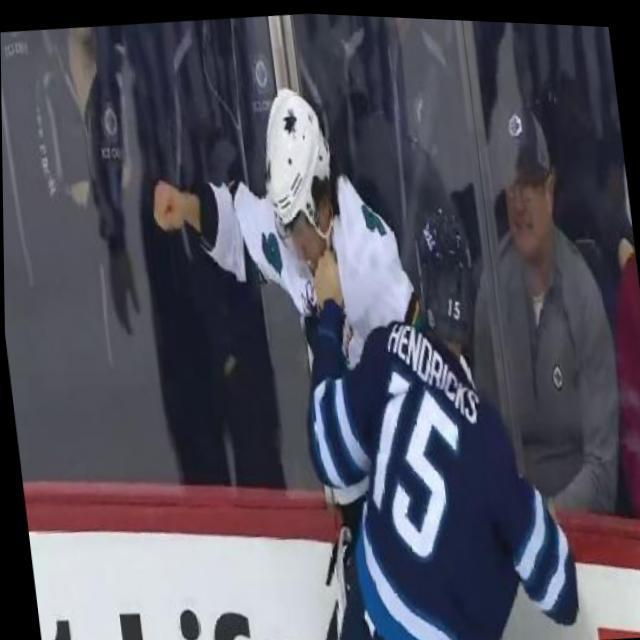fight: (138, 54, 560, 640)
